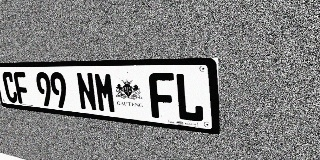9: (49, 72, 69, 109), (35, 72, 54, 107)
C: (1, 72, 19, 103)
F: (148, 73, 176, 120), (13, 72, 31, 105)
L: (174, 73, 204, 123)
M: (93, 72, 117, 114)
N: (75, 72, 98, 112)
